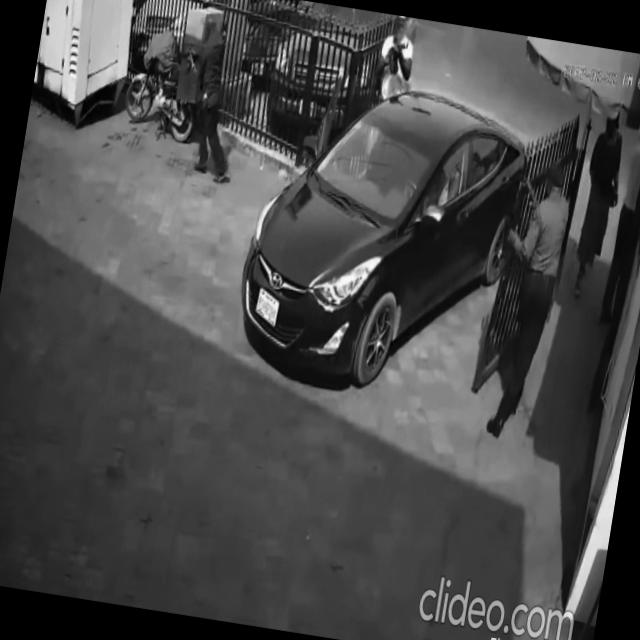gun: (383, 36, 411, 80), (172, 47, 204, 74)
person: (476, 154, 578, 448), (568, 102, 634, 301), (597, 117, 640, 332)
person with a gun: (156, 9, 257, 186), (369, 11, 425, 114)
